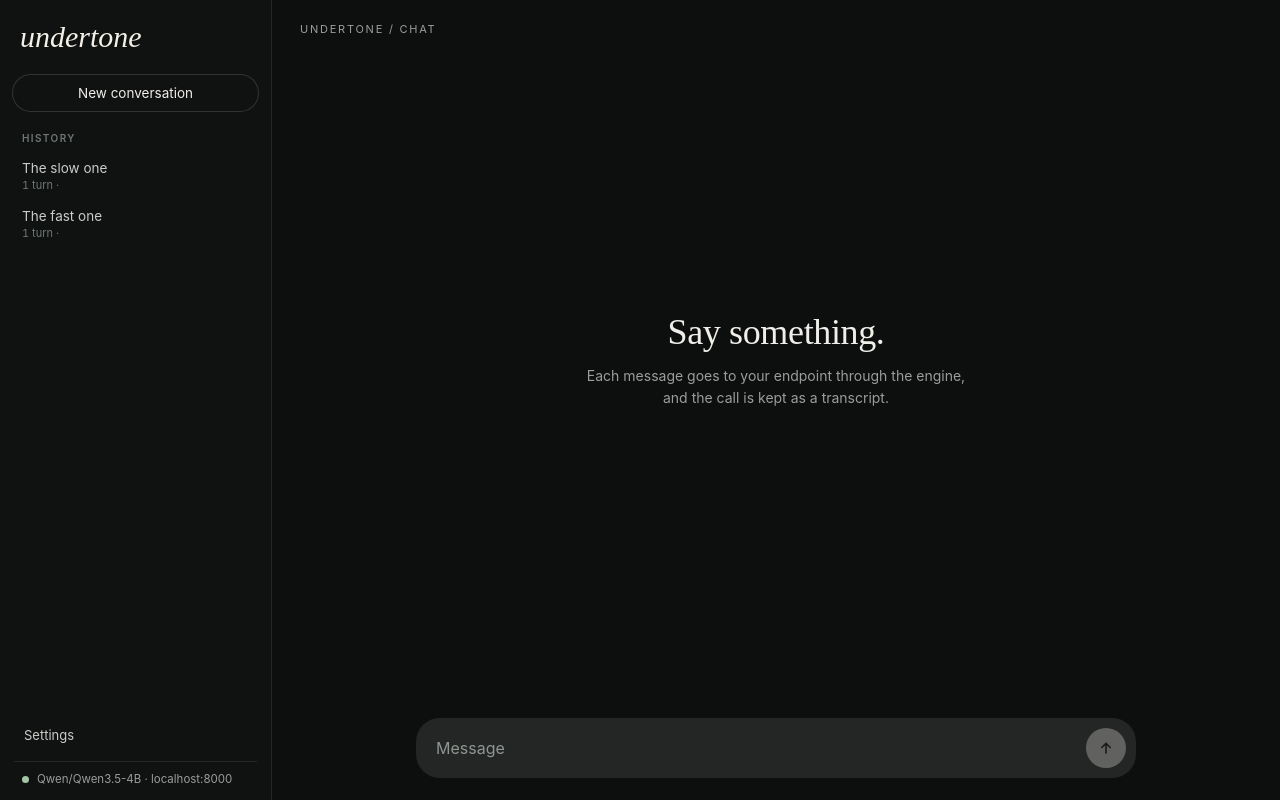
the chat page › shows the conversation asked for last, whichever answers first
This screenshot has width=1280, height=800.
Step 1. Click the button "The slow one 1 turn ·" → (136,176), box [12, 152, 259, 200]
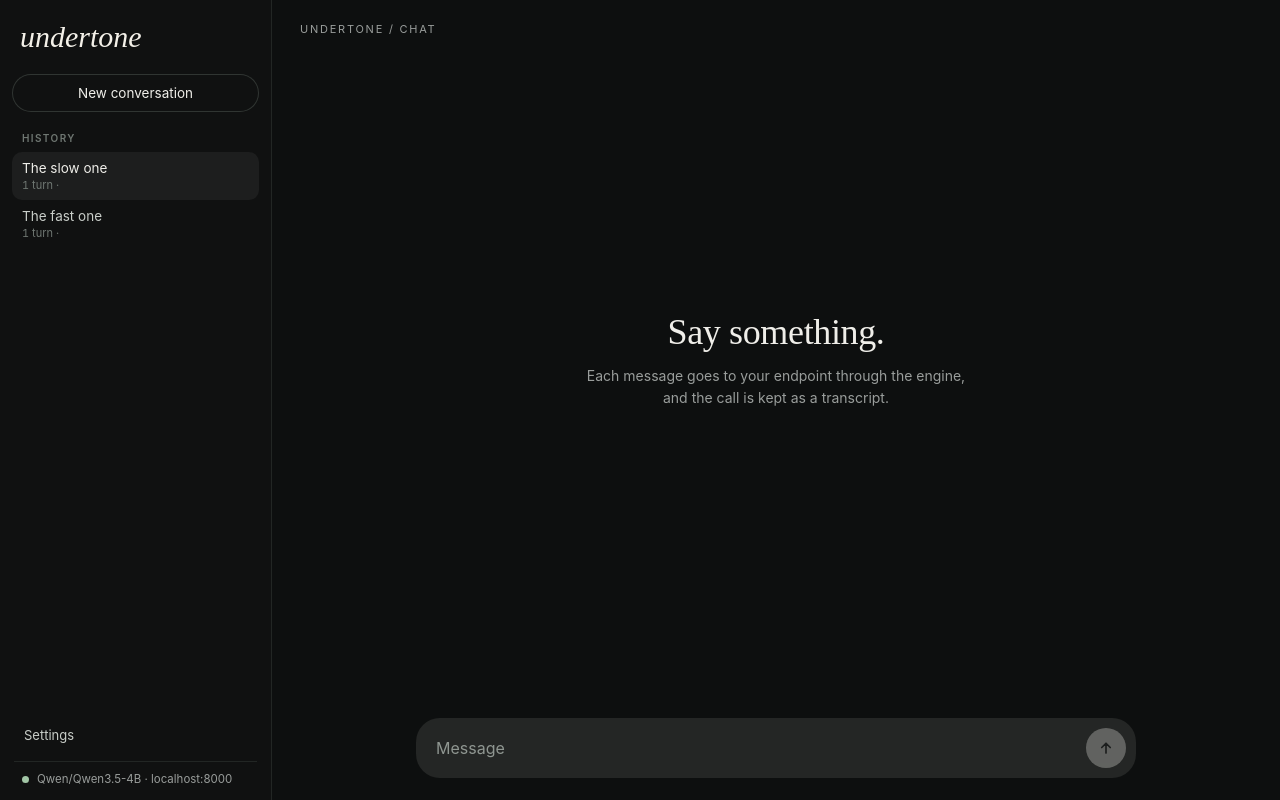
Step 2. Click the button "The fast one 1 turn ·" → (136,224), box [12, 200, 259, 248]
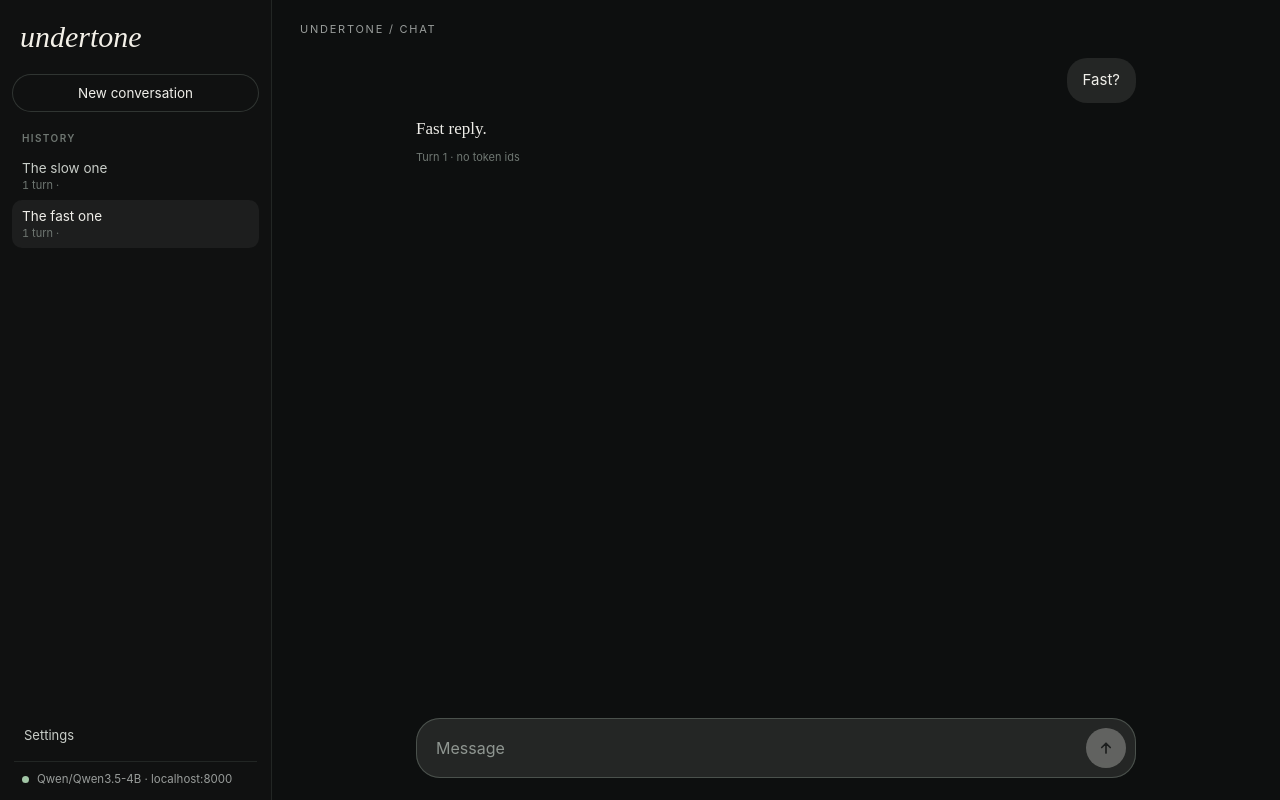
Expected: the text "Fast reply." is shown, [416, 118, 487, 138]
